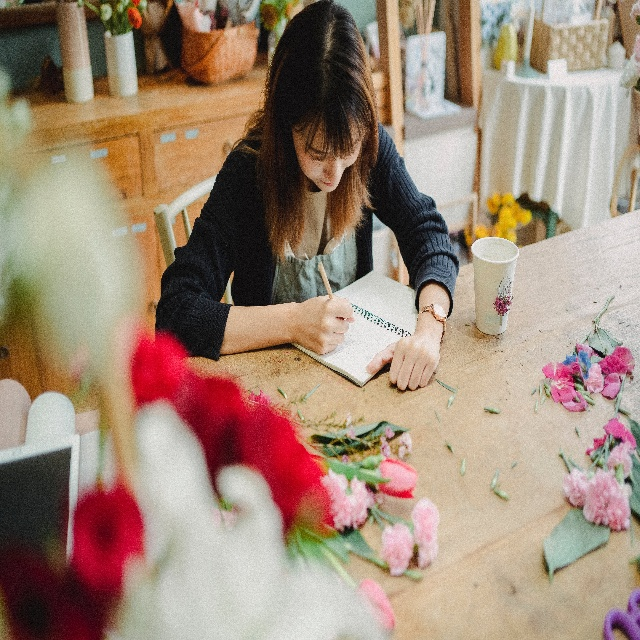Sin_guantes: (365, 329, 447, 393), (297, 295, 354, 357)
